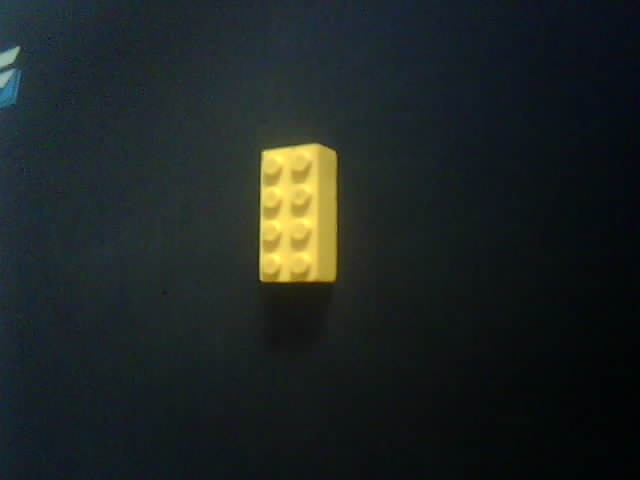lego: (257, 142, 338, 286)
